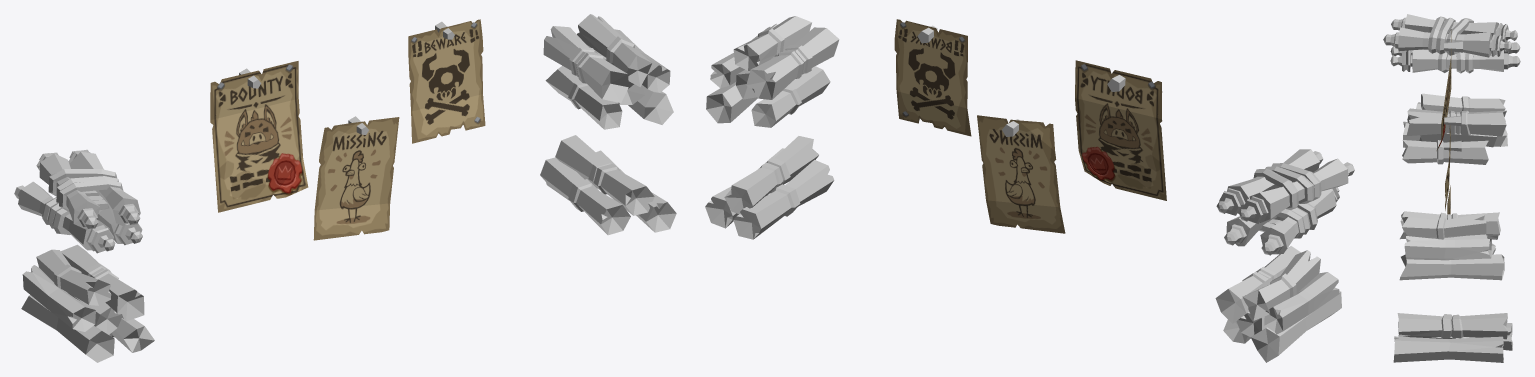
The model's file is SM_Prop_Quest_Board_02_Insert_01.fbx.
3 views of the same model, side by side, from view 1: azimuth 30°, elevation 25°; view 2: azimuth 150°, elevation 25°; view 3: azimuth 270°, elevation 25° (orthographic). The views are drawn at different scales.
Visible parts, largest first — view 1: SM_Prop_Quest_Board_02_Insert_01; view 2: SM_Prop_Quest_Board_02_Insert_01; view 3: SM_Prop_Quest_Board_02_Insert_01.
Boxes of the visible parts, x1,y1,x2,y2 form: SM_Prop_Quest_Board_02_Insert_01: (14, 14, 676, 362); SM_Prop_Quest_Board_02_Insert_01: (705, 16, 1354, 362); SM_Prop_Quest_Board_02_Insert_01: (1383, 14, 1520, 362).
Size of the model in its own units: 234 by 85.23 by 59.12.
